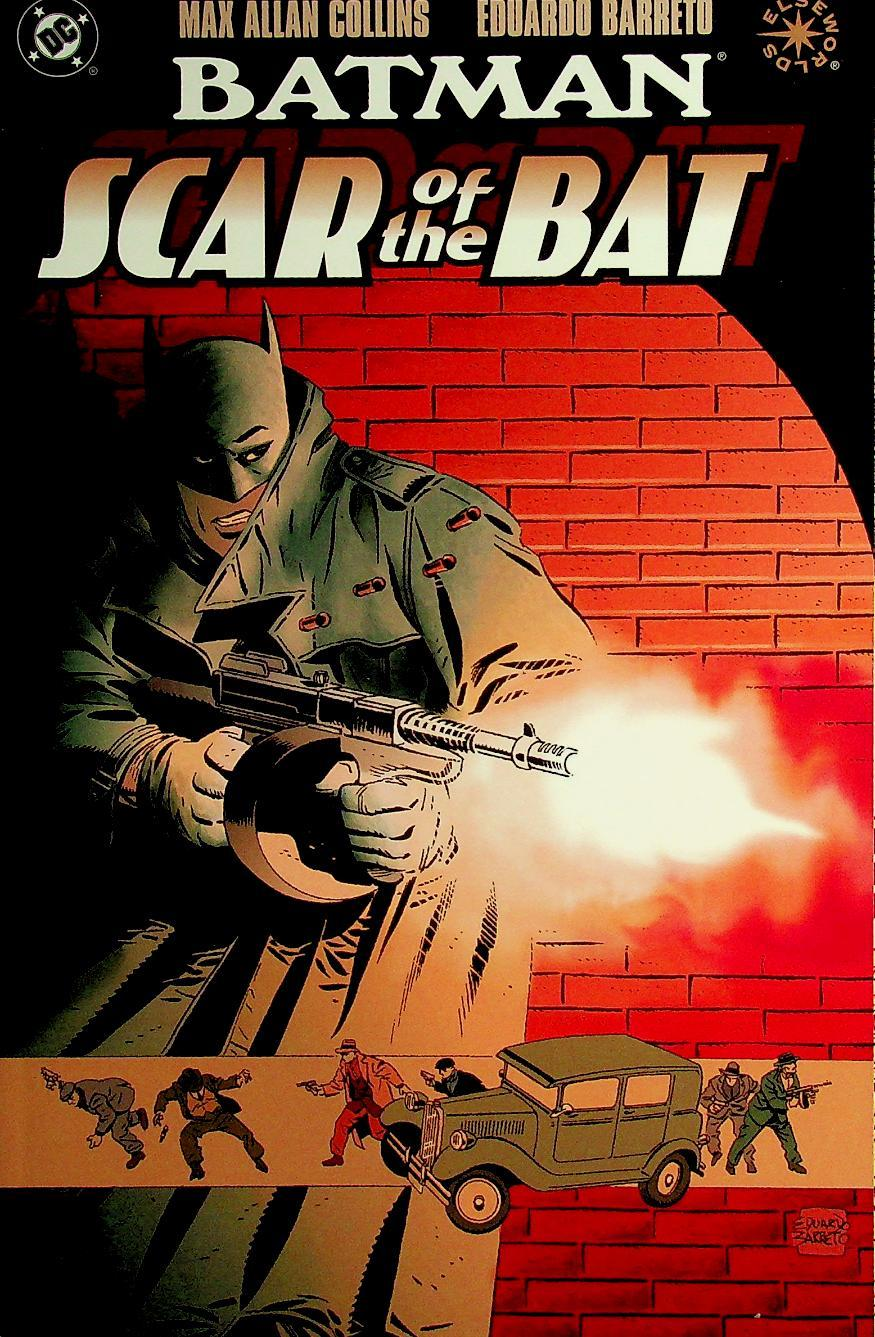comic: (0, 0, 871, 1336)
